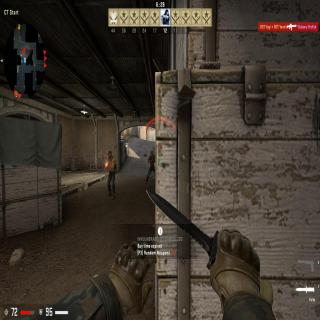T-Body: (106, 150, 116, 200), (145, 150, 156, 185)
T-Head: (108, 150, 112, 158), (150, 150, 154, 156)
